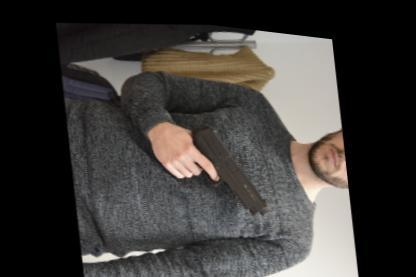pistol: (190, 110, 271, 214)
